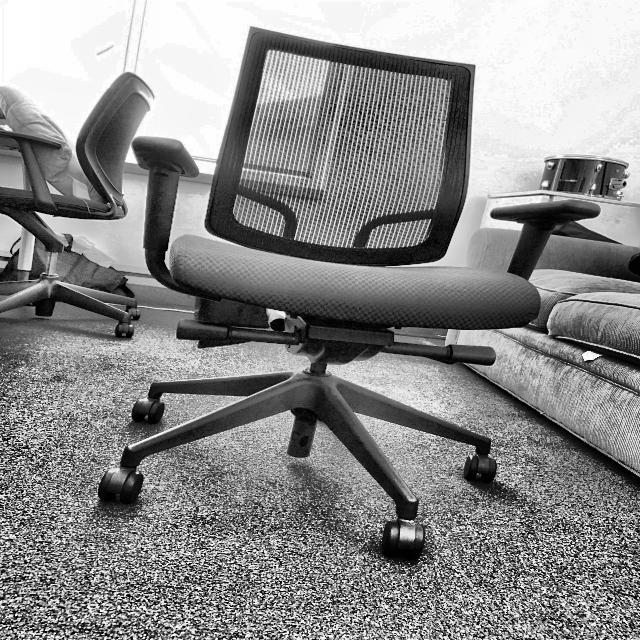chair: (100, 22, 604, 565)
